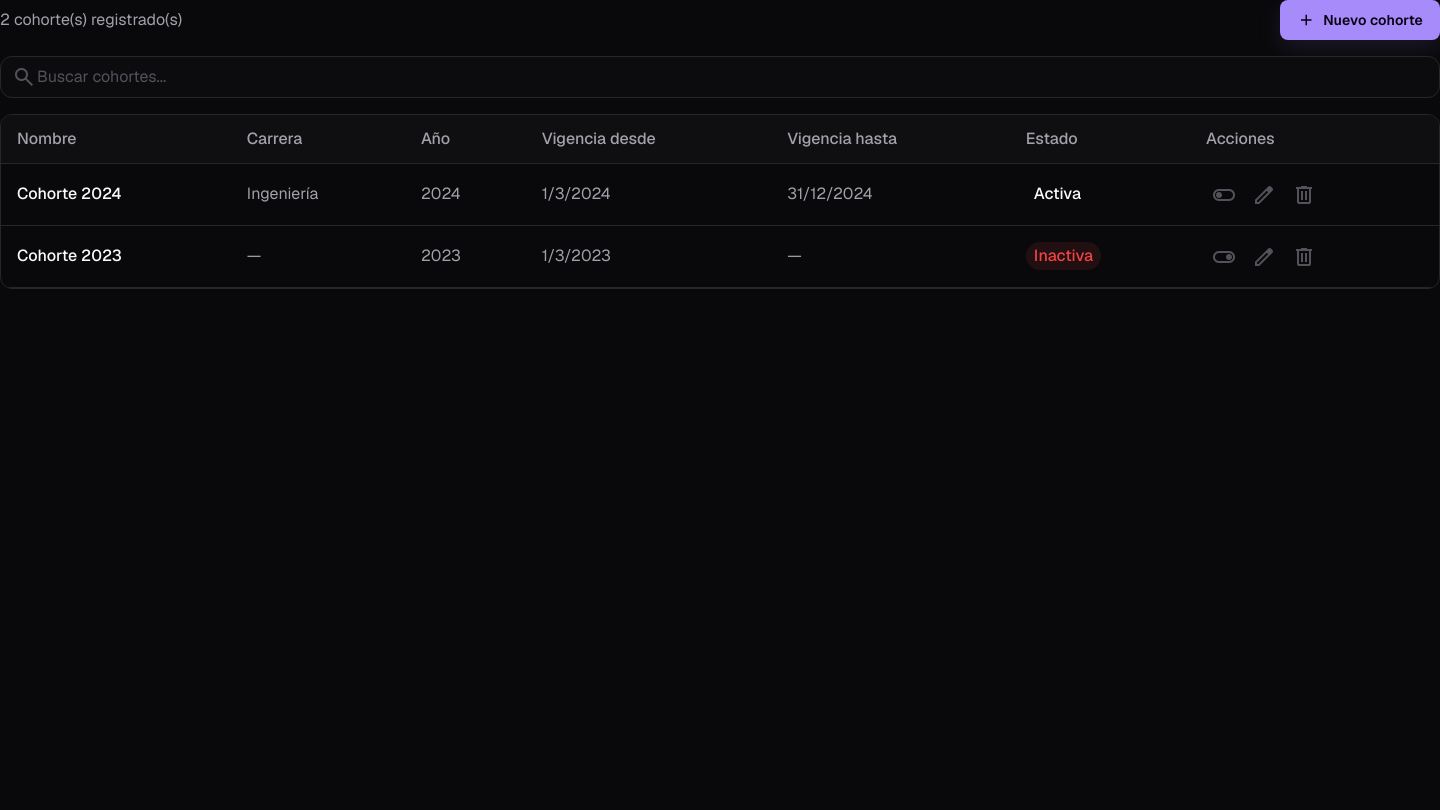
CohortesPage › opens create modal on Nuevo cohorte click
Click the button "Nuevo cohorte": click(1360, 20) [1280,0,1439,40]
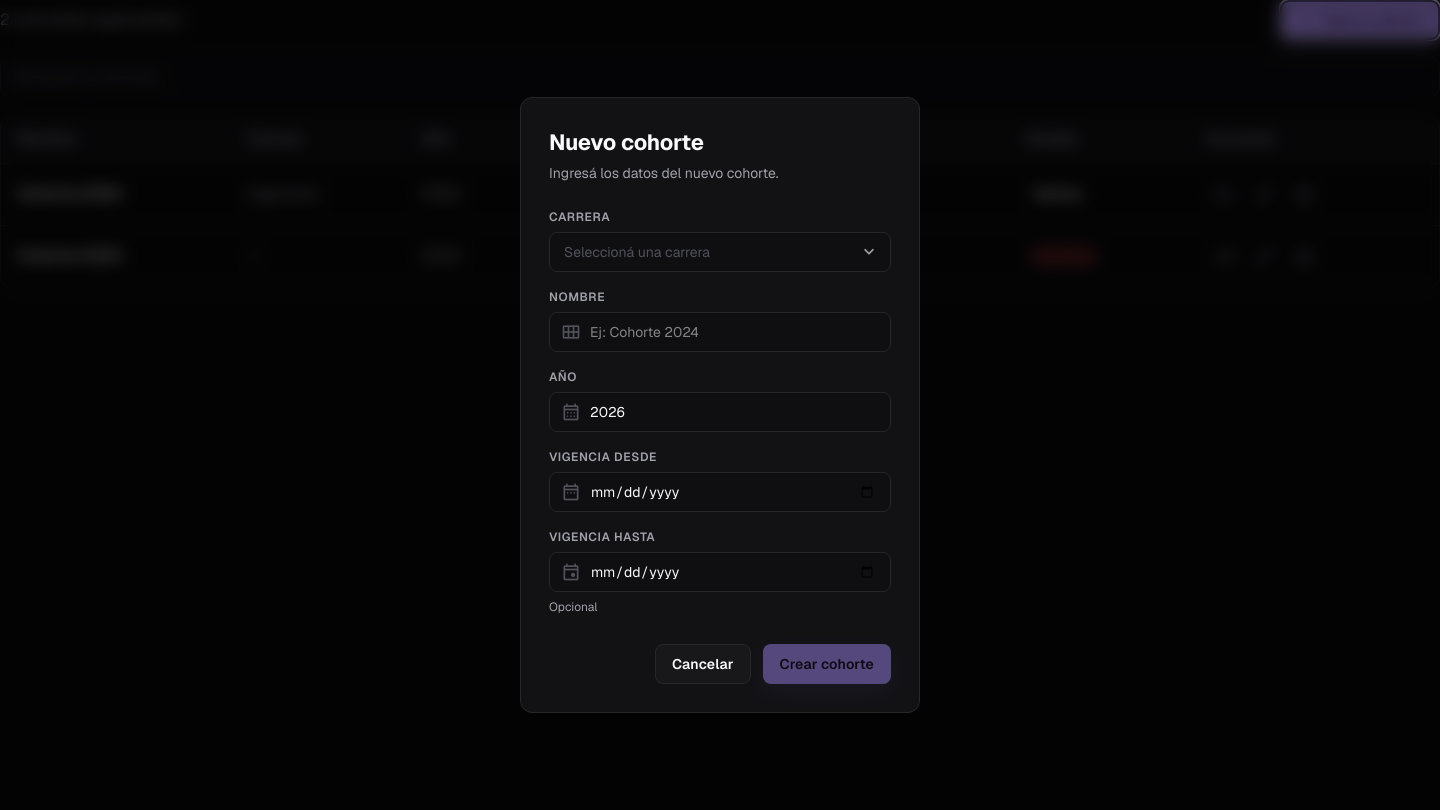
expect the field with placeholder "Ej: Cohorte 2024" is shown: met, box [549,312,891,352]
